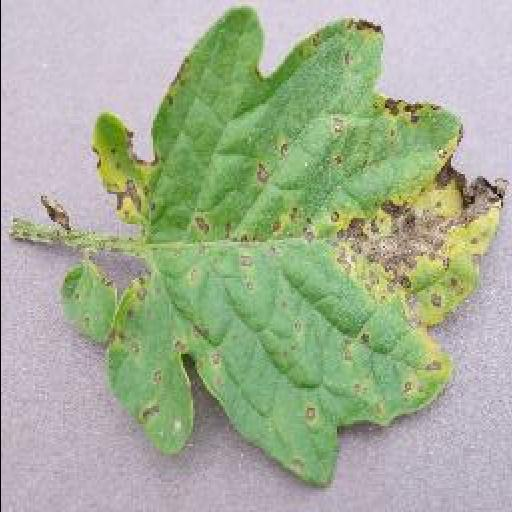disease_tomato: (58, 8, 506, 486)
